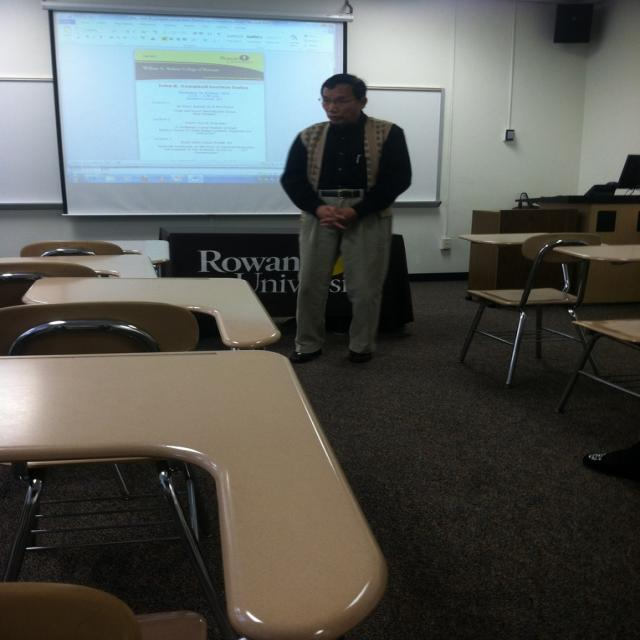chair: (458, 233, 594, 387), (8, 278, 284, 350), (3, 302, 200, 353), (556, 318, 638, 414), (20, 239, 126, 257)
desk: (158, 226, 407, 329)
person: (279, 74, 414, 363)
tv: (45, 2, 350, 219)
